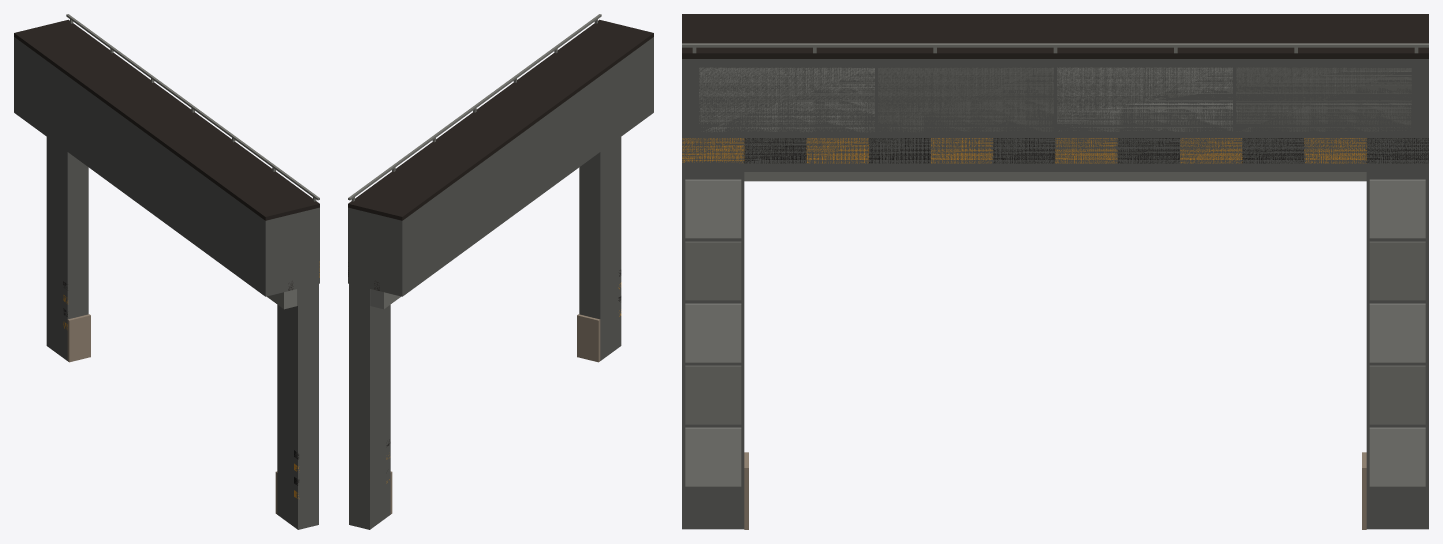
The model's file is fort_outpost_gate.glb.
3 views of the same model, side by side, from view 1: azimuth 30°, elevation 25°; view 2: azimuth 150°, elevation 25°; view 3: azimuth 270°, elevation 25° (orthographic). The views are drawn at different scales.
Parts seen in each view (by area): view 1: fort_outpost_gate; view 2: fort_outpost_gate; view 3: fort_outpost_gate.
Boxes of the visible parts, x1=… form: fort_outpost_gate: x1=14, y1=14, x2=319, y2=529; fort_outpost_gate: x1=348, y1=14, x2=653, y2=529; fort_outpost_gate: x1=682, y1=14, x2=1428, y2=529.
Size of the model in its own units: 3 by 17.2 by 24.
